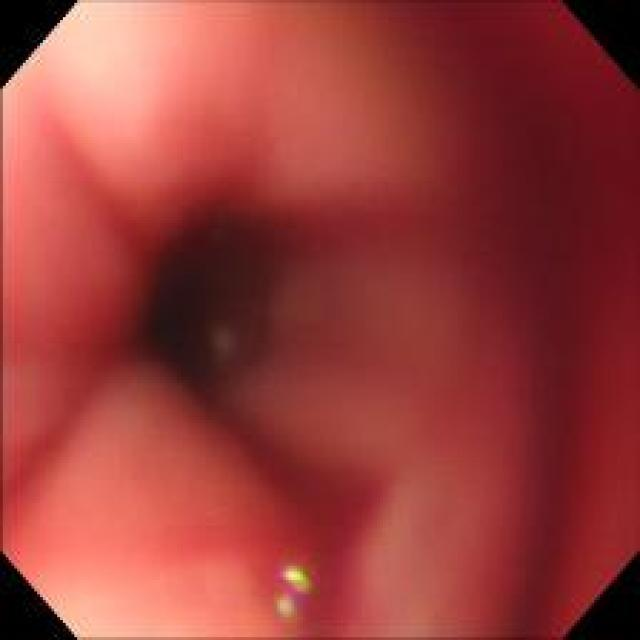blur: (6, 9, 631, 625)
color misalignment: (274, 564, 314, 622)
contrast: (149, 198, 318, 420)
